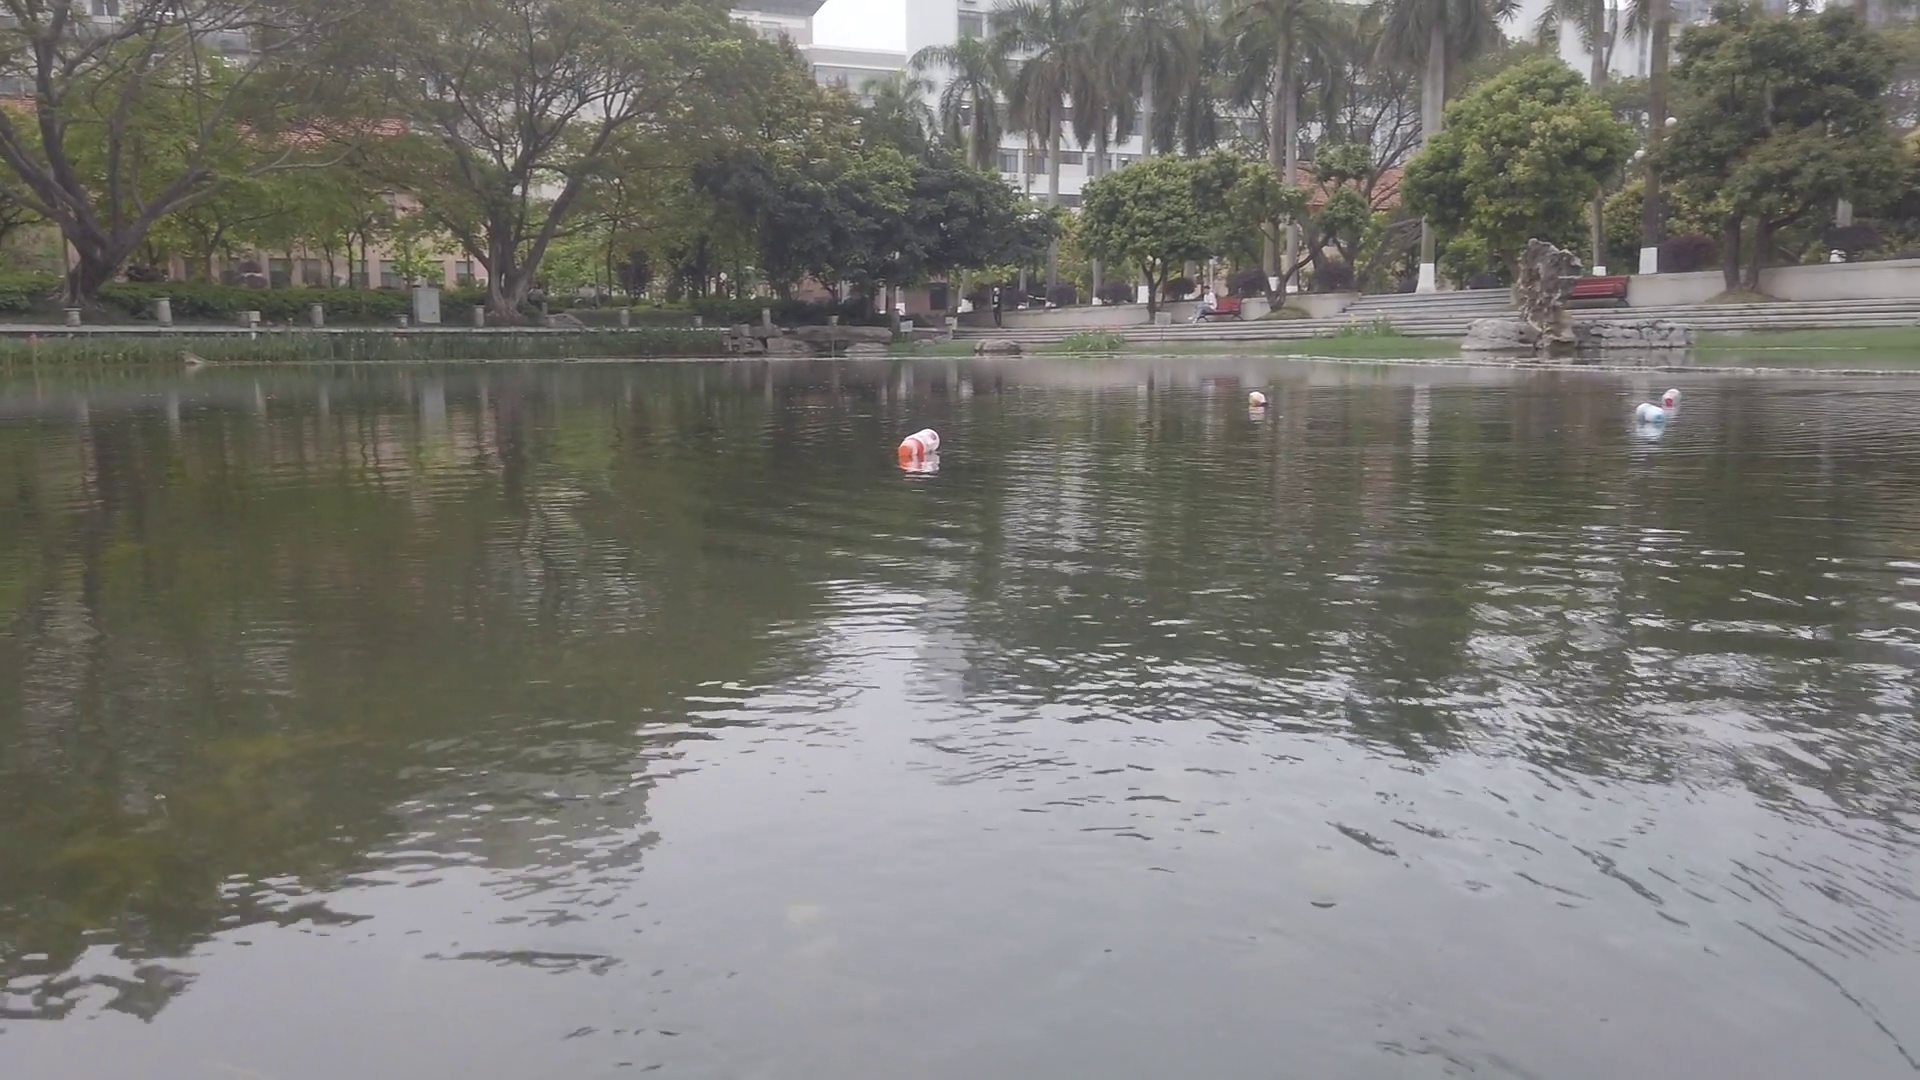bottle: (899, 429, 942, 459), (1636, 404, 1665, 425), (1247, 392, 1269, 410), (1662, 388, 1684, 405)
